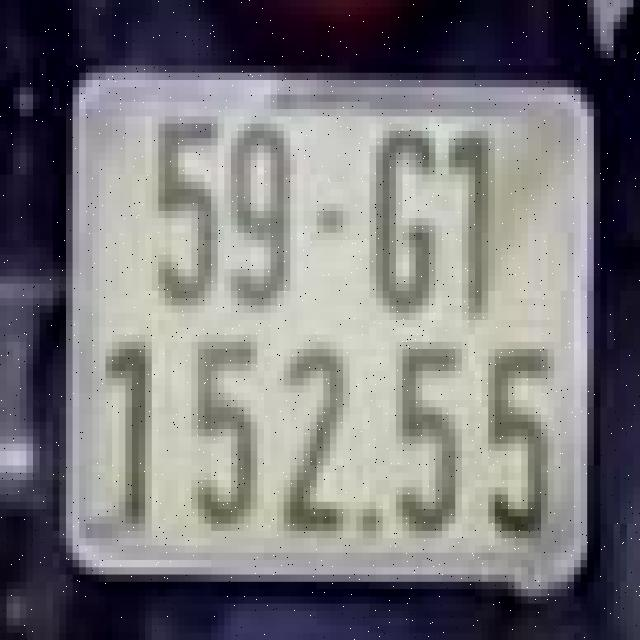1: (99, 331, 165, 542), (446, 127, 498, 324)
5: (175, 309, 267, 535), (472, 335, 564, 560), (142, 106, 221, 316), (386, 335, 465, 538)
9: (221, 120, 307, 331), (280, 320, 353, 538)
G: (360, 120, 446, 324)
